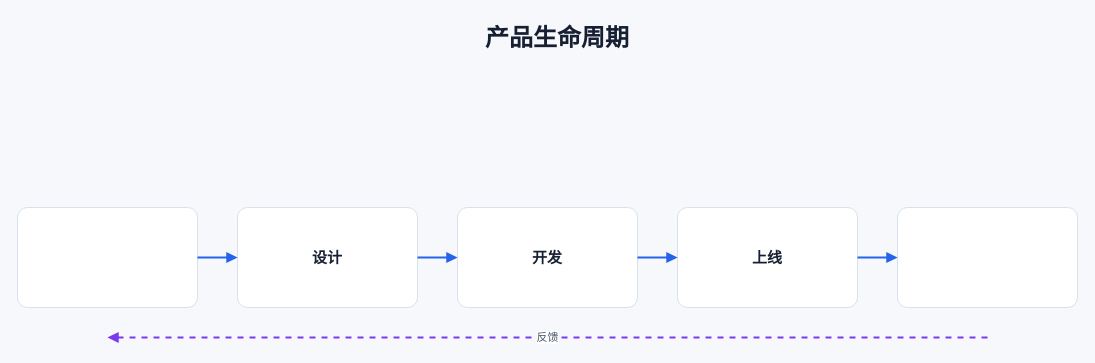
This 1095x363 diagram has some shape labels left out. Each missing label, with the centre of its shape:
持续优化: [987,257]
调研: [107,257]
